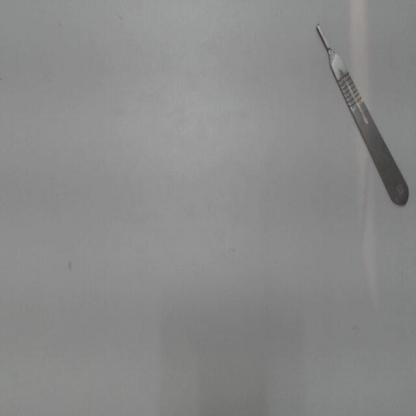No.3 BP Handle: (306, 9, 414, 214)
